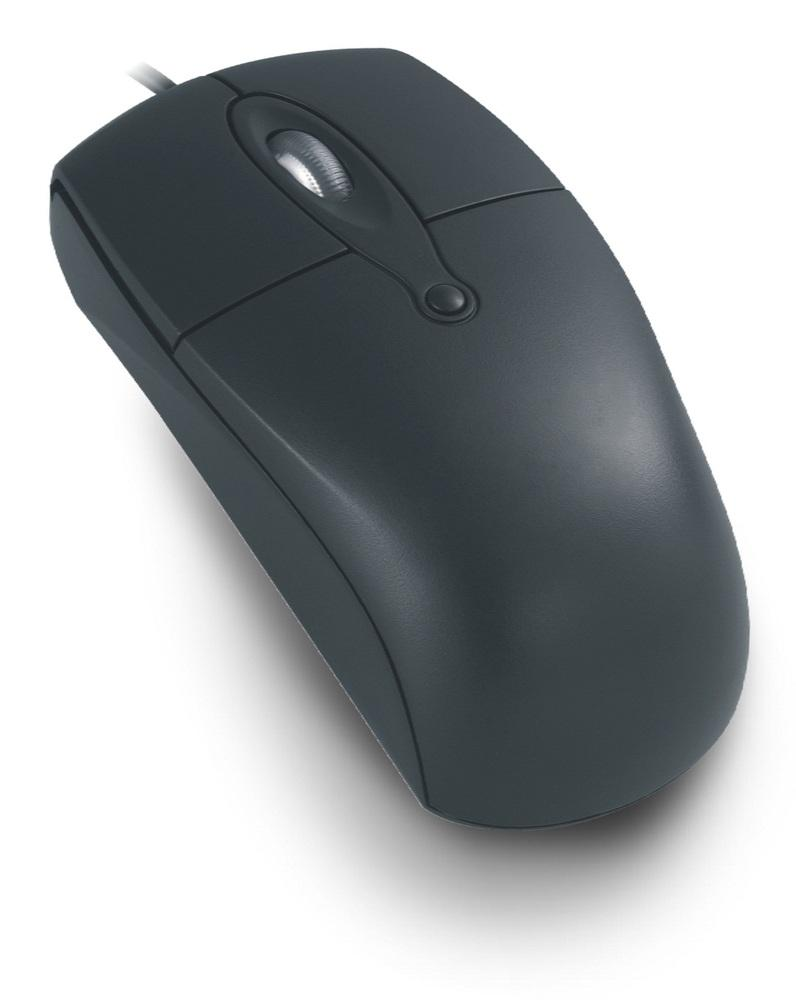computer mouse: (48, 47, 752, 837)
